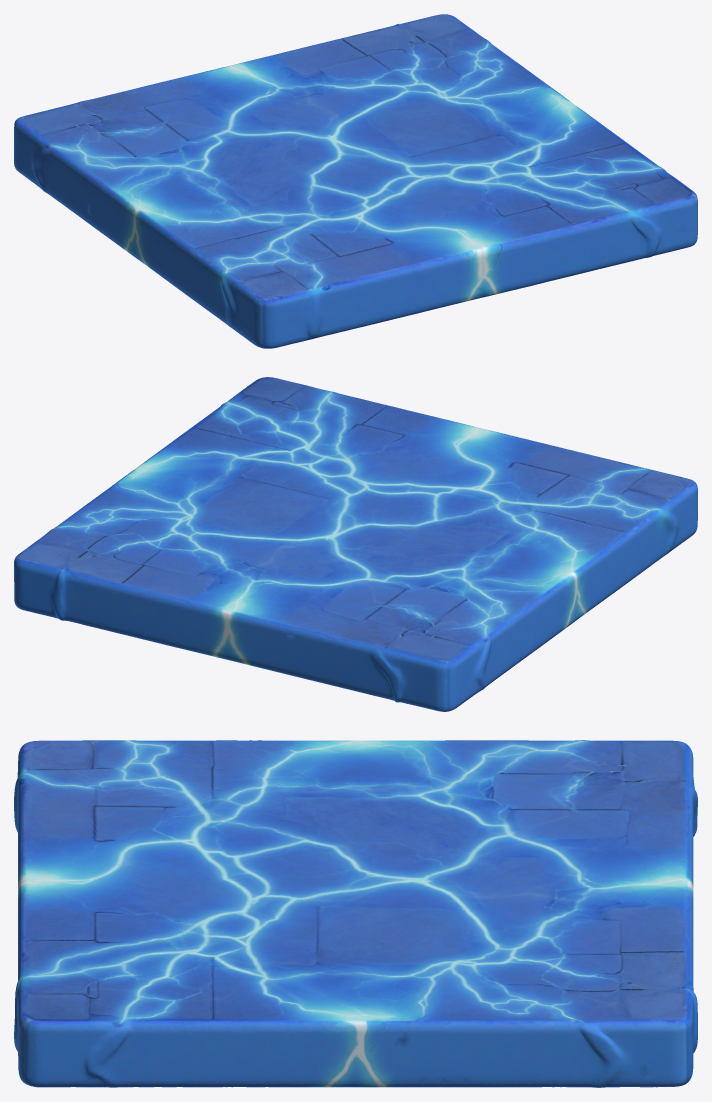
File: Meshy_AI_a_flat_electric_tile_1115233156_texture.glb
3 renders of one model, top to bottom at view 1: azimuth 30°, elevation 25°; view 2: azimuth 150°, elevation 25°; view 3: azimuth 270°, elevation 25°, orthographic. The views are drawn at different scales.
Bounding box in the file's own units: 2 × 0.2436 × 2.
Materials: 1 (1 with a texture image).
